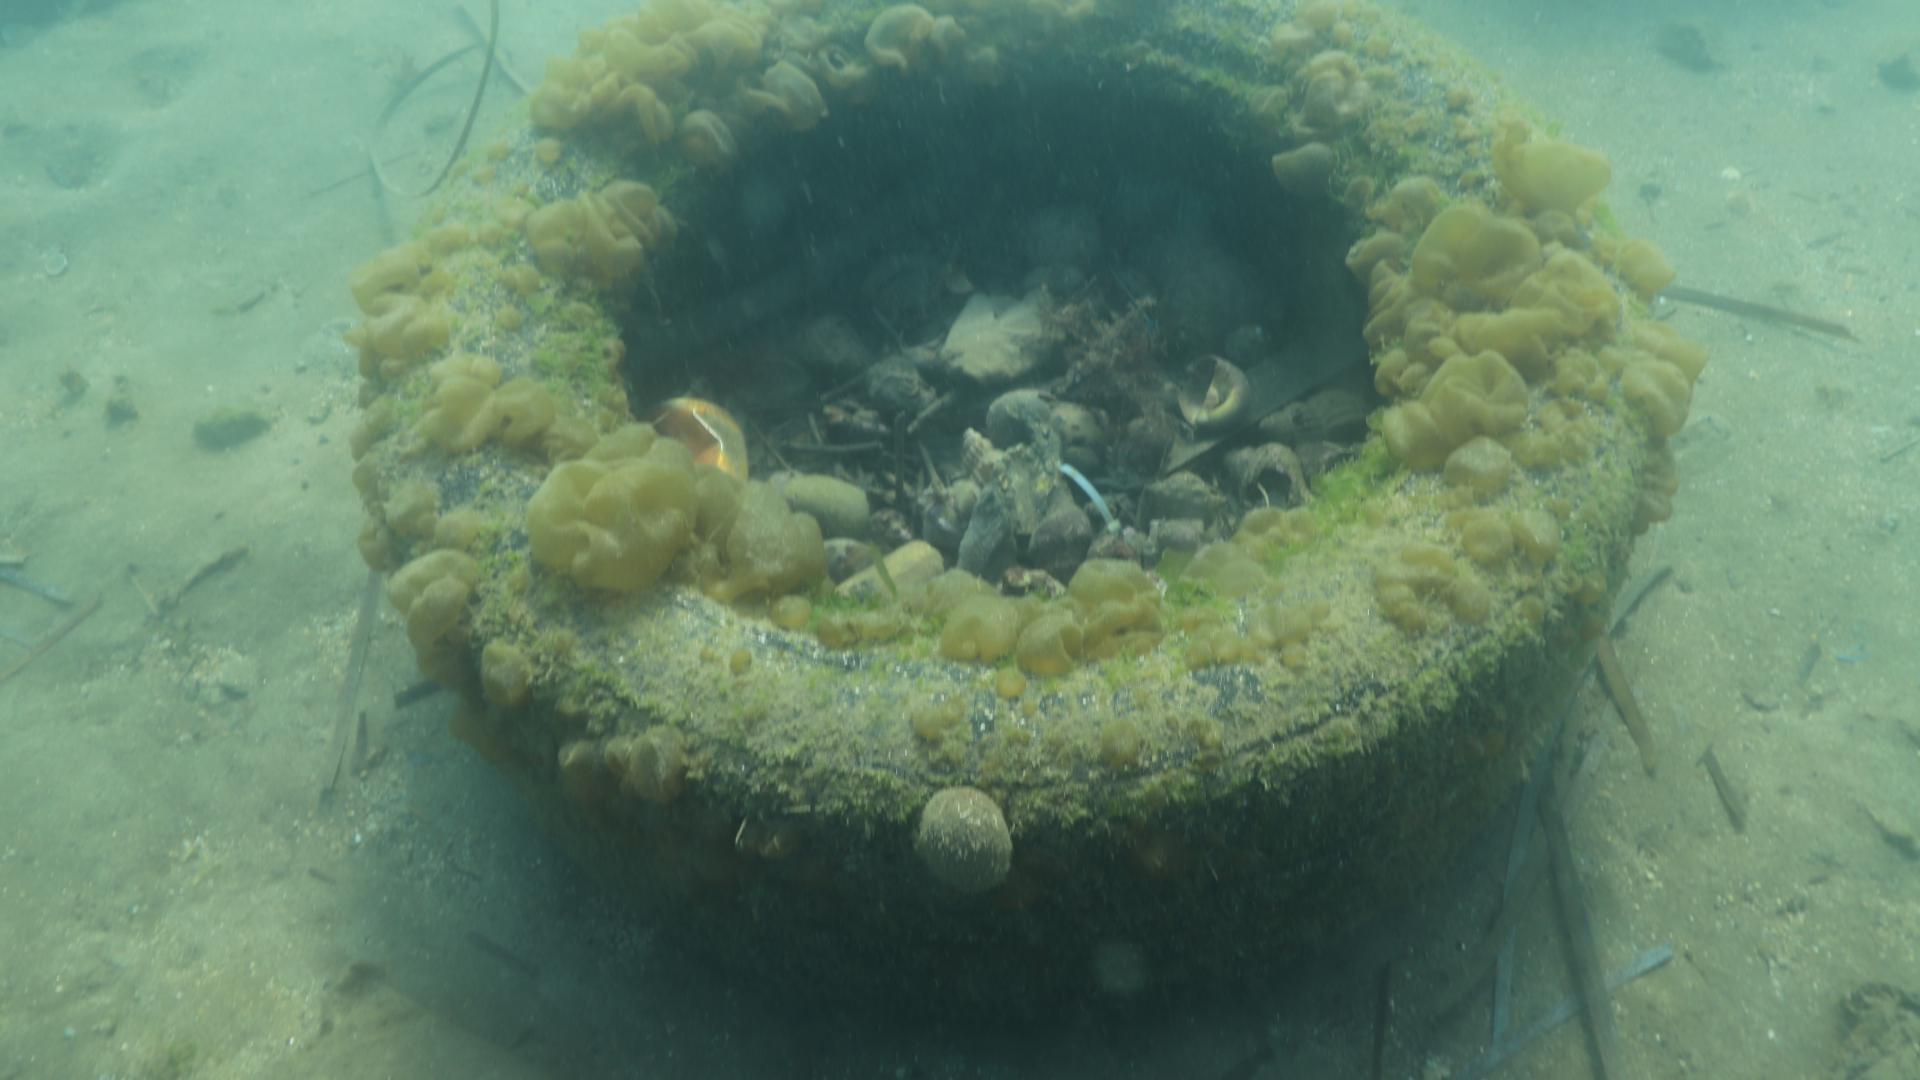tire: (351, 0, 1664, 1004)
